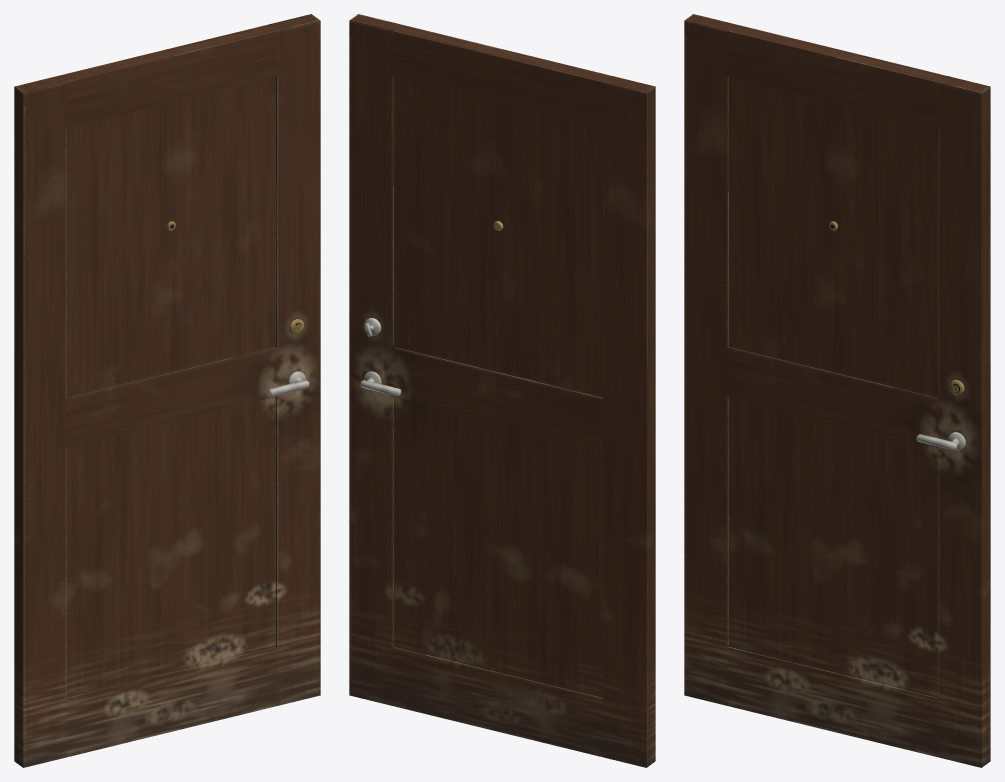
Rendered from front_door.glb.
3 renders of one model, left to right at view 1: azimuth 30°, elevation 25°; view 2: azimuth 150°, elevation 25°; view 3: azimuth 330°, elevation 25°, orthographic.
Parts seen in each view (by area): view 1: FrontDoor; view 2: FrontDoor; view 3: FrontDoor.
Boxes of the visible parts, x1,y1,x2,y2 form: FrontDoor: (14,14,320,767); FrontDoor: (349,14,655,767); FrontDoor: (684,14,990,767).
Size of the model in its own units: 0.954 by 2.07 by 0.14.
1 material, 1 textured.
